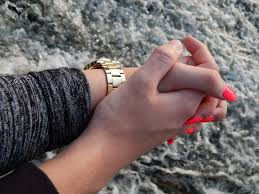hand: (96, 28, 238, 151)
